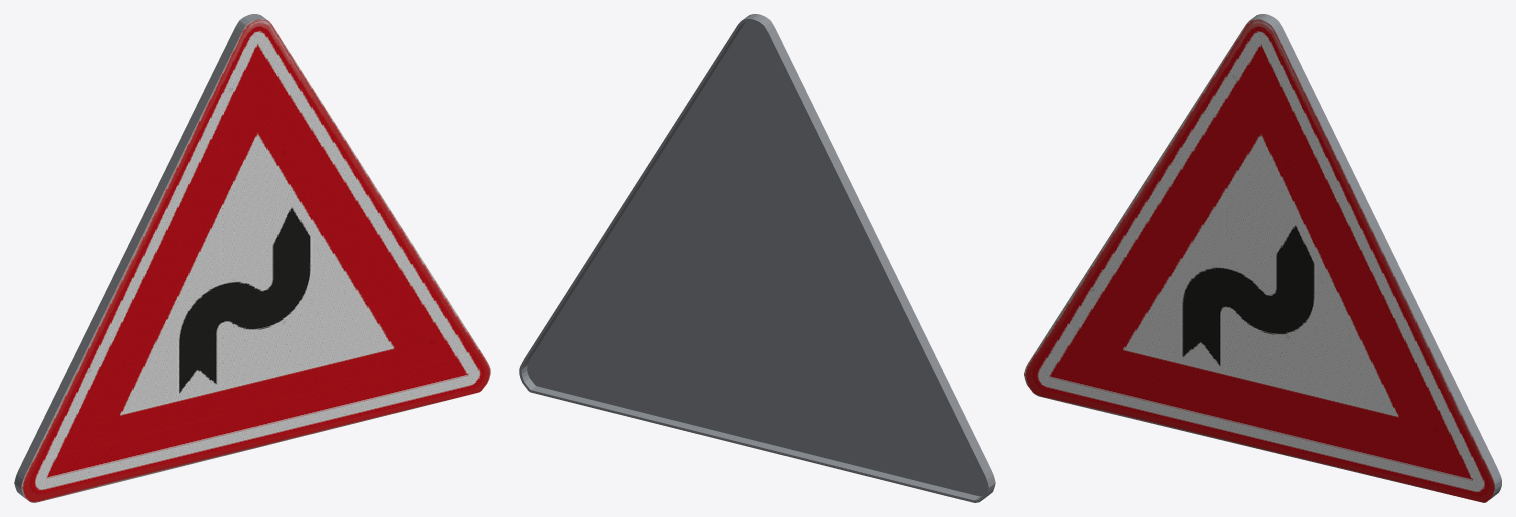
3 renders of one model, left to right at view 1: azimuth 30°, elevation 25°; view 2: azimuth 150°, elevation 25°; view 3: azimuth 330°, elevation 25°, orthographic.
Parts seen in each view (by area): view 1: cat_815230a5ffaf865e; view 2: cat_815230a5ffaf865e; view 3: cat_815230a5ffaf865e.
Boxes of the visible parts, box(x1,y1,x2,y2) form: cat_815230a5ffaf865e: box(14, 14, 490, 502); cat_815230a5ffaf865e: box(519, 14, 995, 502); cat_815230a5ffaf865e: box(1024, 14, 1501, 502).
Bounding box in the file's own units: 0.6 × 0.015 × 0.5245.
Materials: 2 (1 with a texture image).
